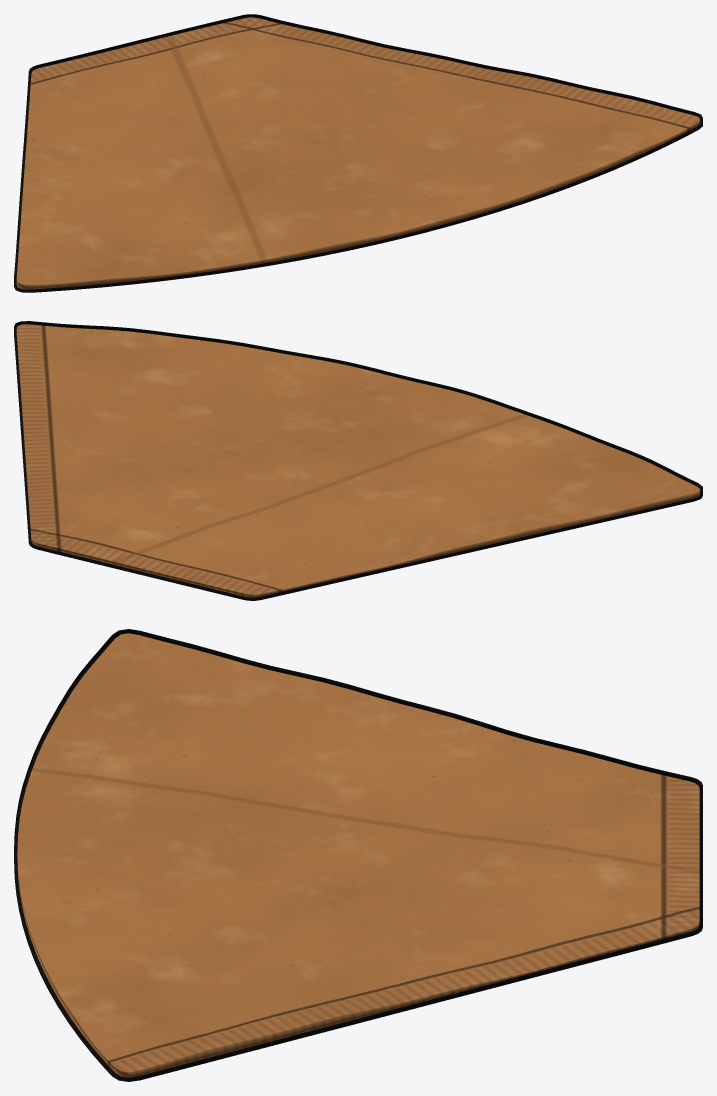
The model's file is CoffeeFilter.fbx.
The picture shows the model from 3 angles, top to bottom: view 1: azimuth 30°, elevation 25°; view 2: azimuth 150°, elevation 25°; view 3: azimuth 270°, elevation 25°; orthographic projection. The views are drawn at different scales.
Visible parts, largest first — view 1: CoffeeFilter; view 2: CoffeeFilter; view 3: CoffeeFilter.
Part boxes in pixels (x1,y1,x2,y2): CoffeeFilter: (14, 14, 702, 292); CoffeeFilter: (14, 321, 702, 600); CoffeeFilter: (14, 629, 702, 1081).
Size of the model in its own units: 0.199 by 0.00327 by 0.1313.
1 material, 1 textured.
